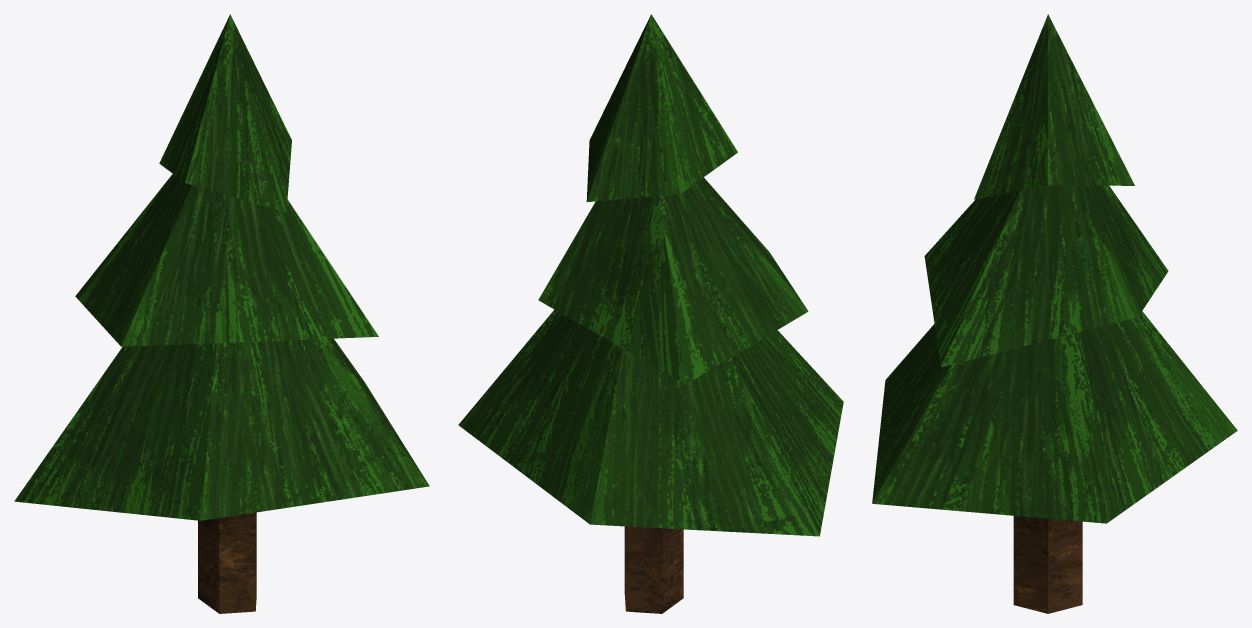
The model's file is tree.fbx.
The picture shows the model from 3 angles, left to right: view 1: azimuth 30°, elevation 25°; view 2: azimuth 150°, elevation 25°; view 3: azimuth 270°, elevation 25°; orthographic projection.
Visible parts, largest first — view 1: pCone4; view 2: pCone4; view 3: pCone4.
Boxes of the visible parts, x1,y1,x2,y2 form: pCone4: (14, 14, 429, 613); pCone4: (458, 14, 843, 613); pCone4: (872, 14, 1237, 613).
Size of the model in its own units: 5.76 by 9.07 by 5.12.
